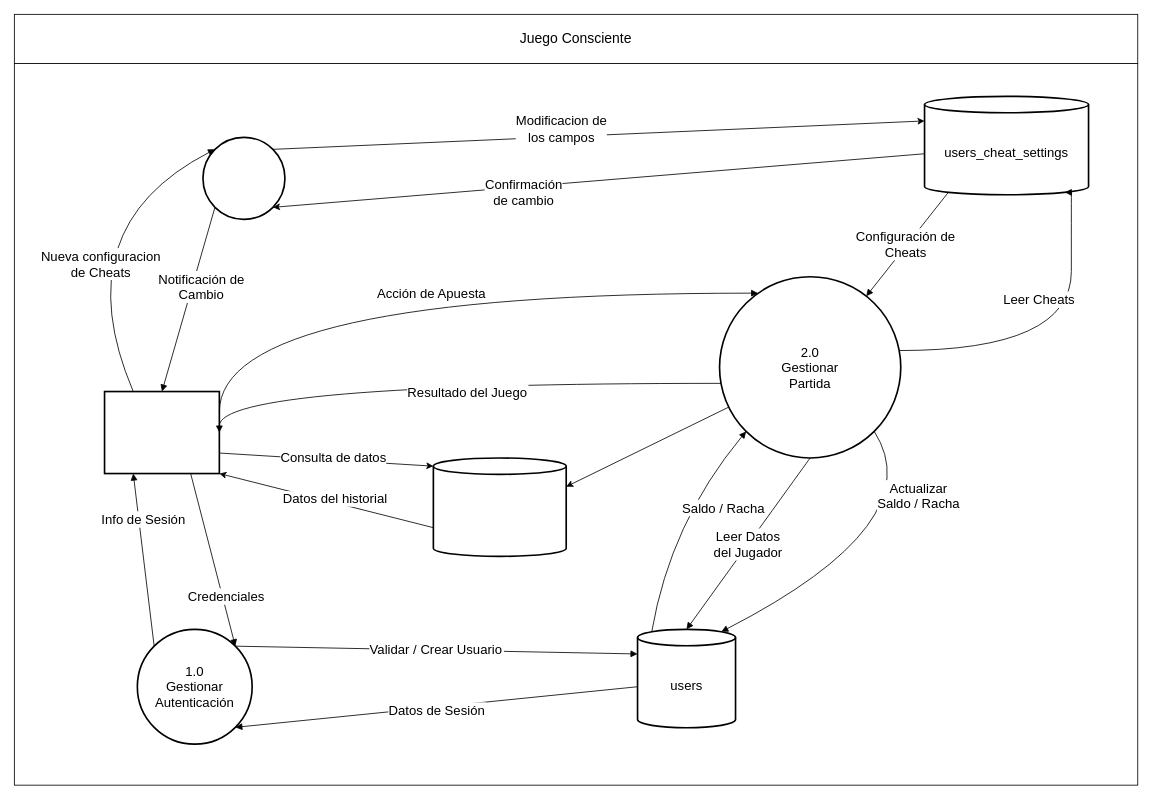
The diagram is 1152 pixels wide and 800 high, and some of its shapes have lost their labels. Each missing label, with the centre of its shape:
2.1 Gestionar Cheats: the point at 243,178
game_history: the point at 499,507
Usuario: the point at 161,432
